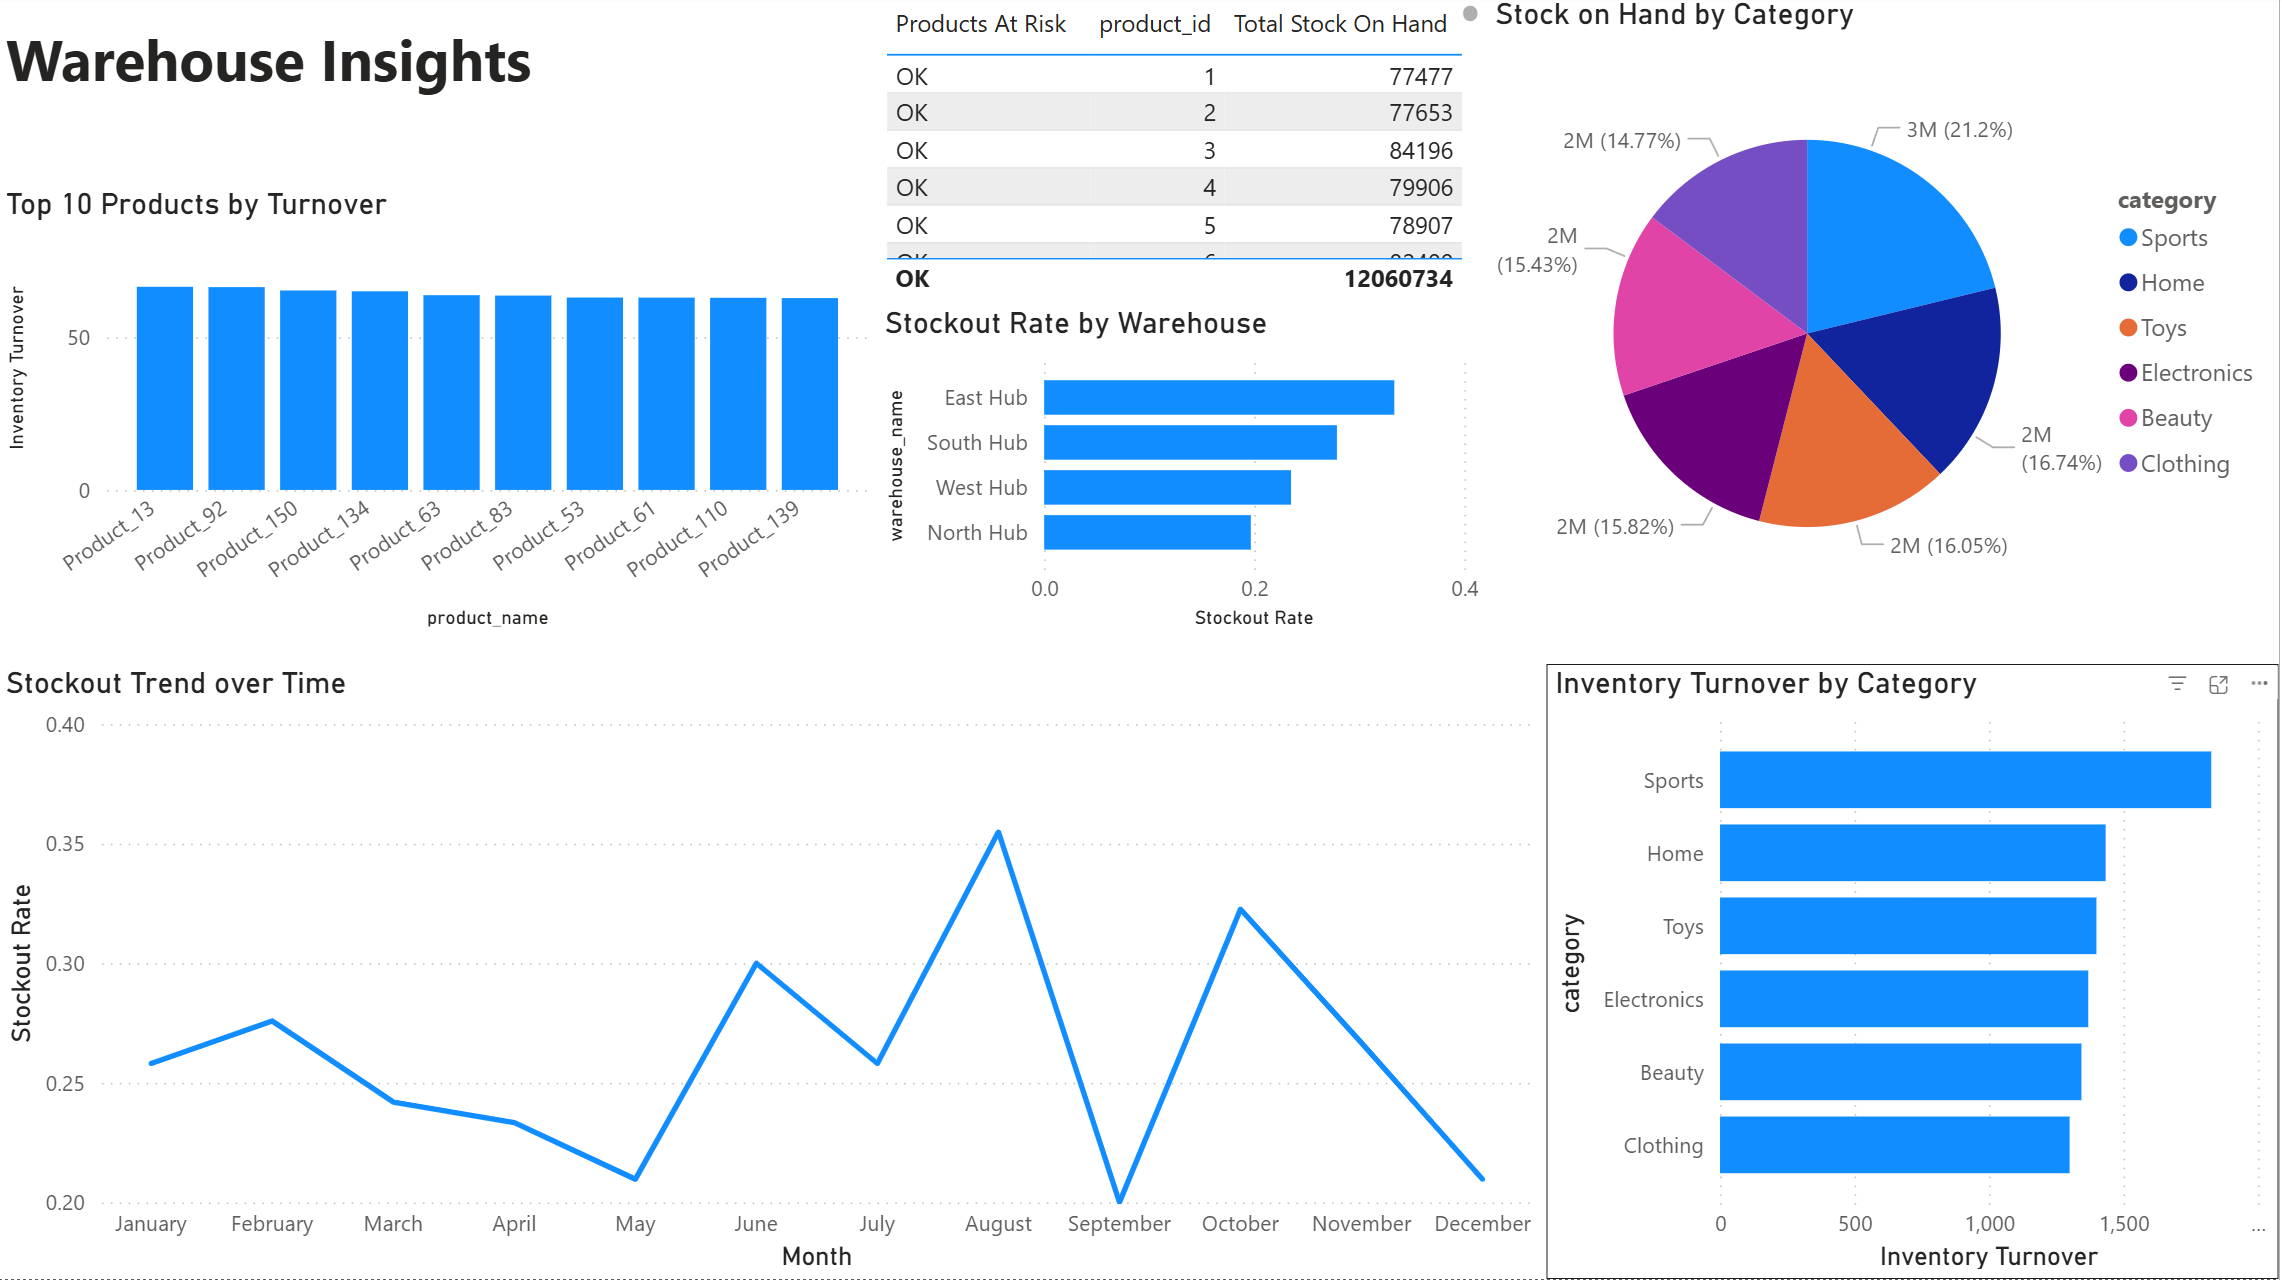

The dashboard page shown, as its layout file describes it:
{"tool":"powerbi","page":{"name":"Page 3","canvas":[1280,720],"ordinal":2},"visuals":[{"type":"clusteredColumnChart","title":"Top 10 Products by Turnover","fields":{"Category":["products.product_name"],"Y":["inventory.Inventory_Turnover"]},"box":[0,107.2,493.1,252.4],"z":0},{"type":"lineChart","title":"Stockout Trend over Time","fields":{"Category":["inventory.date.Variation.Date Hierarchy.Month"],"Y":["inventory.Stockout Rate"]},"box":[0,375.4,869.1,344.6],"z":1000},{"type":"pieChart","title":"Stock on Hand by Category","fields":{"Category":["products.category"],"Y":["inventory.Total Stock On Hand"]},"box":[835.8,0,444,359.7],"z":2000},{"type":"barChart","title":"Inventory Turnover by Category","fields":{"Y":["inventory.Inventory Turnover"],"Category":["products.category"]},"box":[869.1,375.4,410.7,344.6],"z":3000},{"type":"barChart","title":"Stockout Rate by Warehouse","fields":{"Y":["inventory.Stockout Rate"],"Category":["warehouses.warehouse_name"]},"box":[493.1,173.3,342.7,186.4],"z":4000},{"type":"tableEx","fields":{"Values":["inventory.Products At Risk","products.product_id","inventory.Total Stock On Hand"]},"box":[493.1,0,342.7,173.3],"z":5000},{"type":"textbox","box":[0,8.5,320.4,59.5],"z":6000}]}

Visuals, with their boxes in screenshot pixels (x1, y1, x2, y2), scaled from the page's 1280x720 canvas onto the 2282x1280 screenshot:
"Top 10 Products by Turnover" clusteredColumnChart: 0 191 879 639
"Stockout Trend over Time" lineChart: 0 667 1549 1279
"Stock on Hand by Category" pieChart: 1490 0 2281 639
"Inventory Turnover by Category" barChart: 1549 667 2281 1279
"Stockout Rate by Warehouse" barChart: 879 308 1490 639
tableEx - inventory.Products At Risk x products.product_id: 879 0 1490 308
textbox: 0 15 571 121
